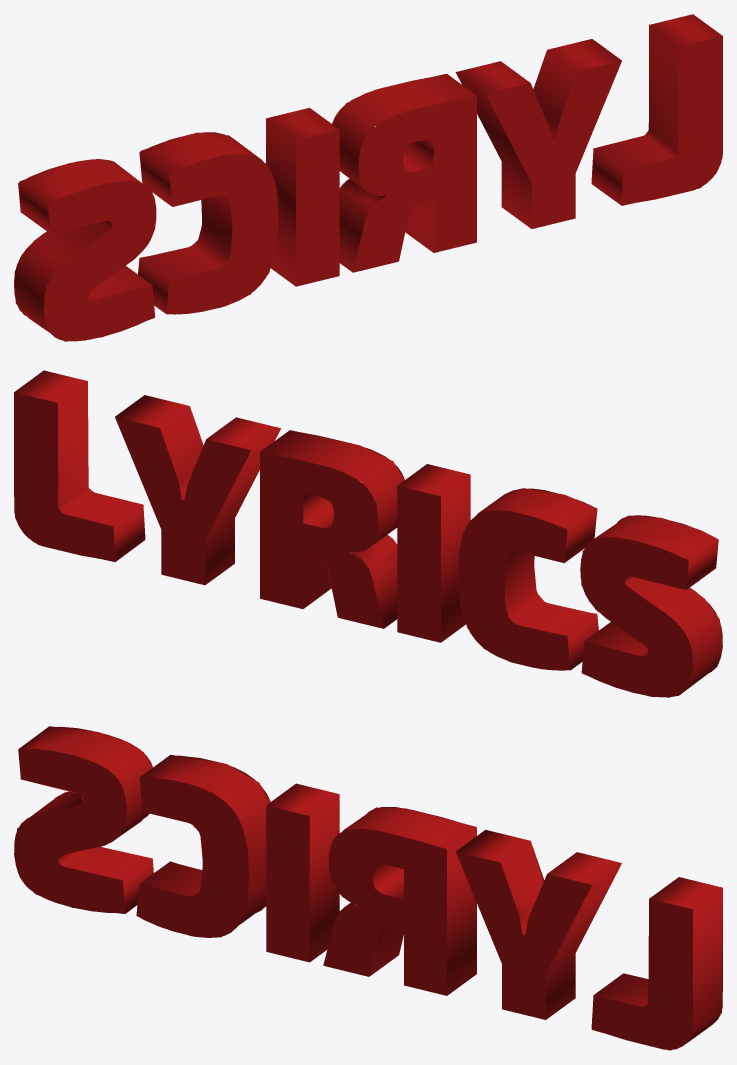
The model's file is lyrics.fbx.
The picture shows the model from 3 angles, top to bottom: view 1: azimuth 30°, elevation 25°; view 2: azimuth 150°, elevation 25°; view 3: azimuth 330°, elevation 25°; orthographic projection.
Parts seen in each view (by area): view 1: Text; view 2: Text; view 3: Text.
Boxes of the visible parts, x1,y1,x2,y2 form: Text: (14, 14, 722, 341); Text: (14, 370, 722, 697); Text: (14, 726, 722, 1050).
Size of the model in its own units: 10.49 by 2.26 by 0.8.
